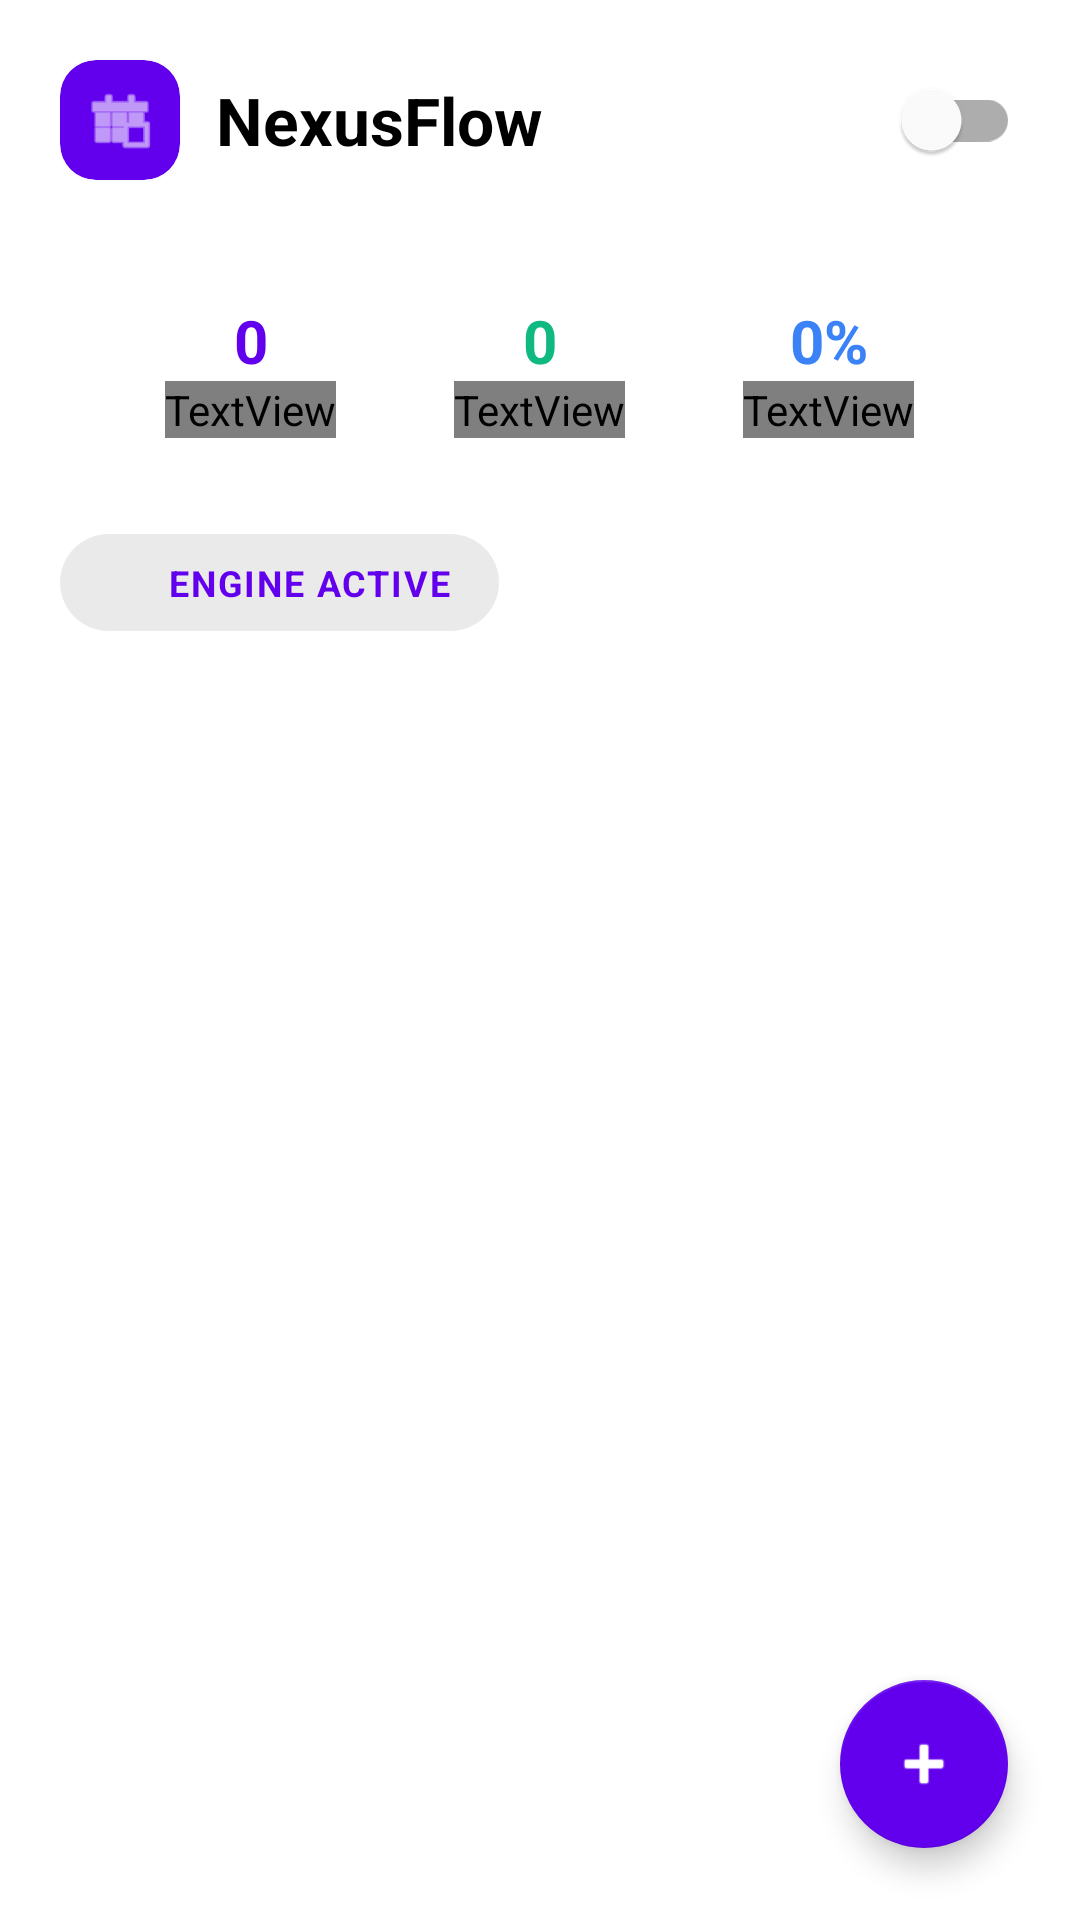

Icon click points for this 1080px×1920px phone screenshot, format point (x, y):
add: point (924, 1764)
today: point (120, 121)
